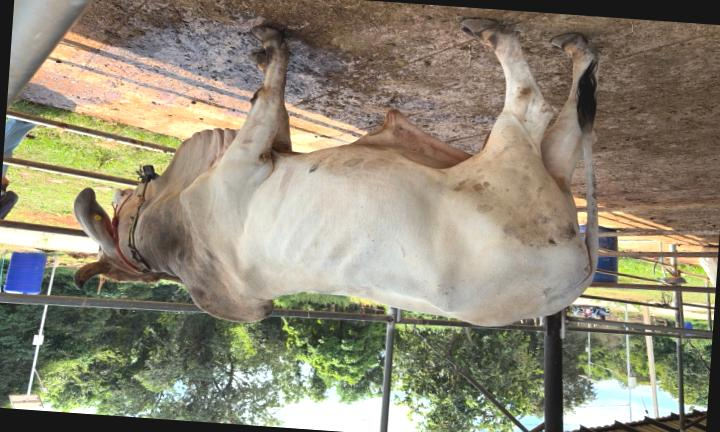Brahman: (74, 19, 600, 326)
